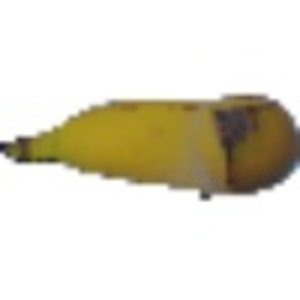banana: (5, 80, 292, 208)
